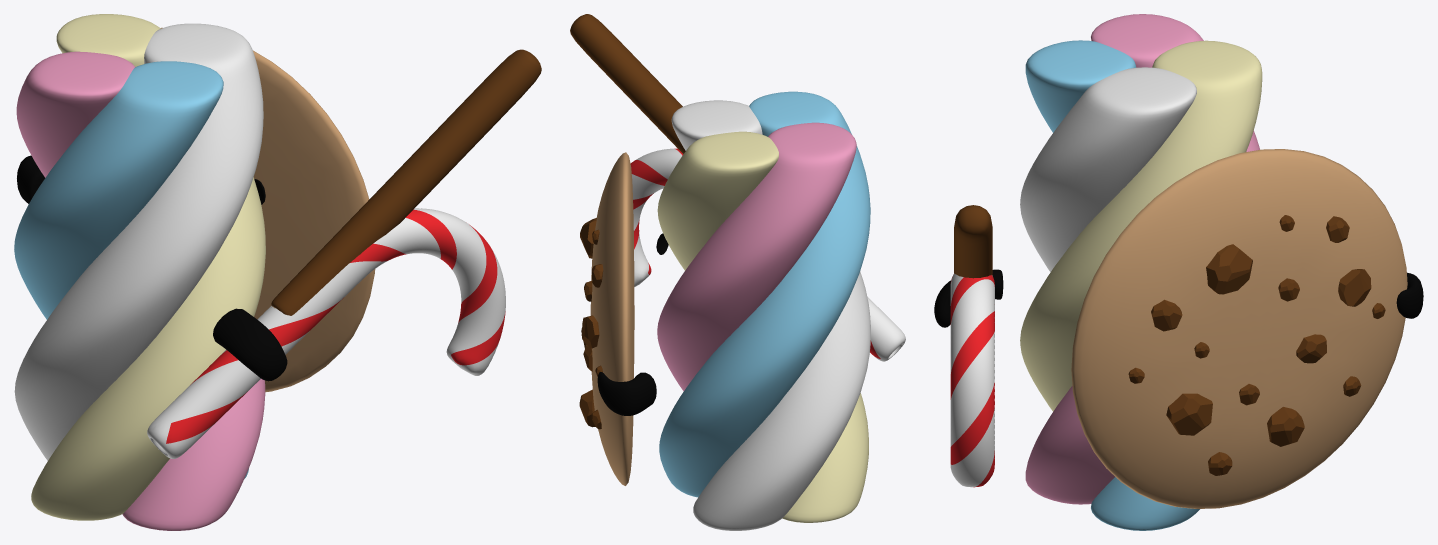
The model's file is Shieldoca.fbx.
3 views of the same model, side by side, from view 1: azimuth 30°, elevation 25°; view 2: azimuth 150°, elevation 25°; view 3: azimuth 270°, elevation 25° (orthographic). The views are drawn at different scales.
Visible parts, largest first — view 1: Marsh, Cookie, Bengala, Pepero, Mao_Dir, Mao_Esq; view 2: Marsh, Cookie, Pepero, Bengala, Gotas de Chocolate, Mao_Esq; view 3: Cookie, Marsh, Gotas de Chocolate, Bengala, Pepero, Mao_Dir, Mao_Esq.
Part boxes in pixels (<box>): Marsh: <box>14,14,265,530</box>; Cookie: <box>161,27,375,392</box>; Bengala: <box>147,208,505,458</box>; Pepero: <box>271,49,541,315</box>; Mao_Dir: <box>213,308,287,381</box>; Mao_Esq: <box>17,155,44,203</box>; Marsh: <box>657,91,870,530</box>; Cookie: <box>590,152,634,485</box>; Pepero: <box>570,14,685,153</box>; Bengala: <box>630,148,905,361</box>; Gotas de Chocolate: <box>579,218,603,429</box>; Mao_Esq: <box>597,372,656,415</box>; Cookie: <box>1071,149,1407,508</box>; Marsh: <box>1020,14,1262,530</box>; Gotas de Chocolate: <box>1128,215,1385,475</box>; Bengala: <box>950,273,994,487</box>; Pepero: <box>954,205,992,278</box>; Mao_Dir: <box>934,269,1003,327</box>; Mao_Esq: <box>1396,272,1423,318</box>.
Bounding box in the file's own units: 454 × 448 × 464.
